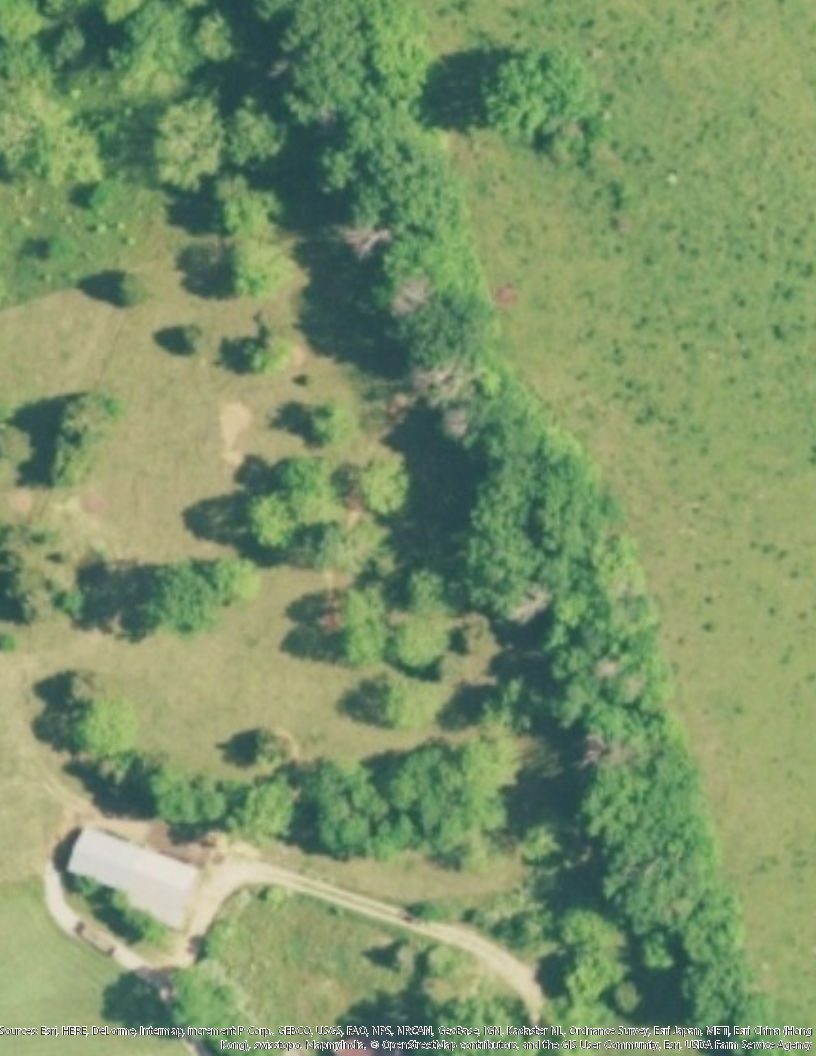cafo: (68, 824, 200, 915)
